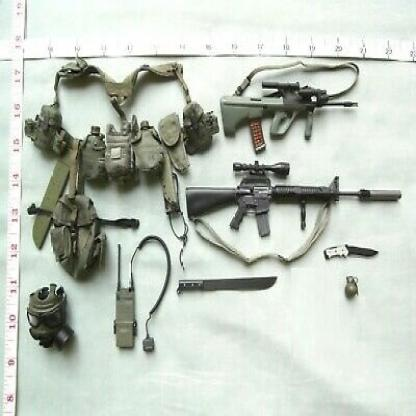Grenade: (342, 272, 361, 301)
Gun: (185, 157, 403, 240), (218, 79, 360, 154)
Knife: (324, 243, 379, 263)
